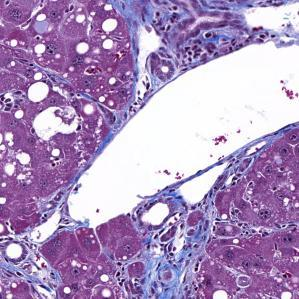fibrosis: (118, 6, 249, 54), (130, 219, 214, 292)
